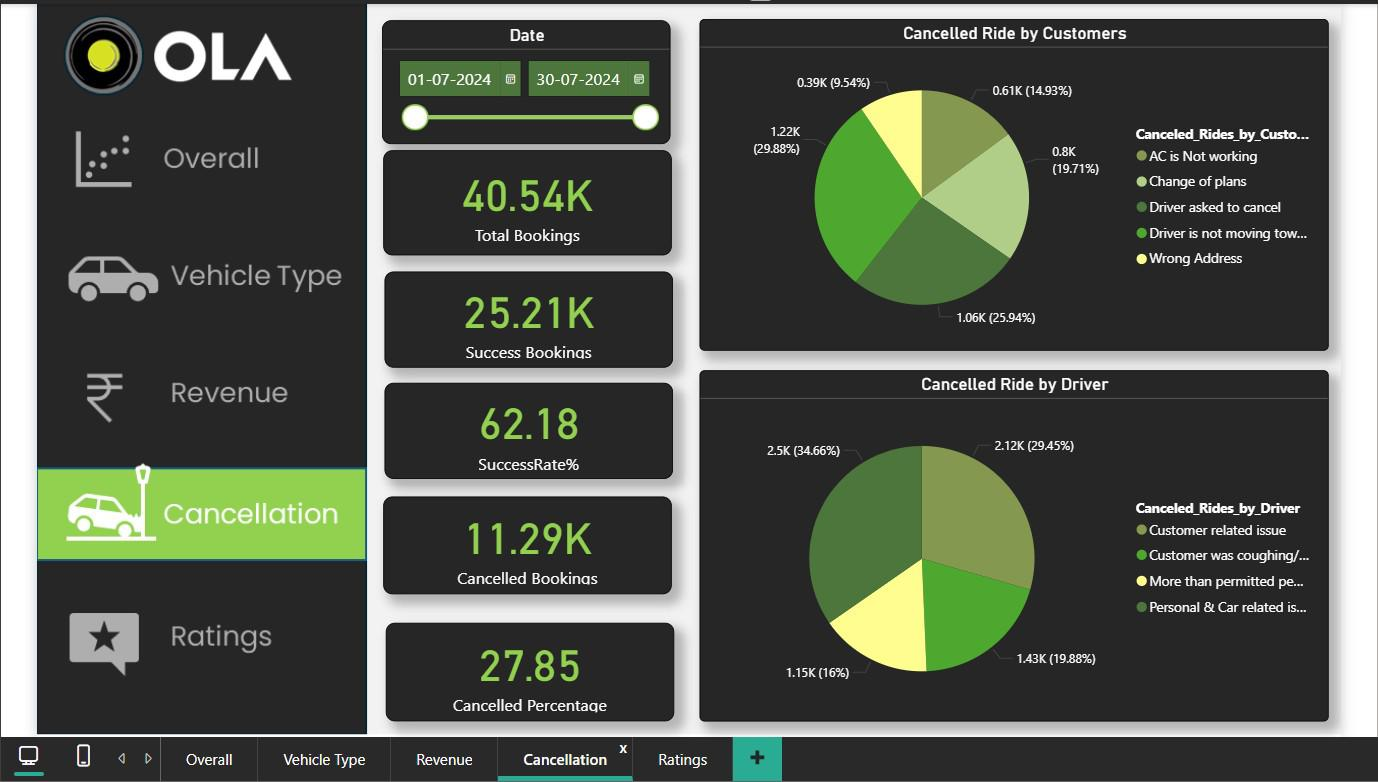

The dashboard page shown, as its layout file describes it:
{"tool":"powerbi","page":{"name":"Cancellation","canvas":[1280,720],"ordinal":3},"visuals":[{"type":"actionButton","box":[0,580.4,322.7,92],"z":0},{"type":"actionButton","box":[0,454,322.7,92],"z":1000},{"type":"actionButton","box":[1.2,339.9,322.7,88.3],"z":2000},{"type":"actionButton","box":[1.2,103.1,322.7,92],"z":3000},{"type":"actionButton","box":[0,217.2,322.7,92],"z":4000},{"type":"pieChart","title":"Cancelled Ride by Driver","fields":{"Y":["select","CountNonNull(July.Canceled_Rides_by_Driver)"],"Category":["July.Canceled_Rides_by_Driver"]},"box":[650.4,359.5,617.5,344.4],"z":5000},{"type":"pieChart","title":"Cancelled Ride by Customers","fields":{"Y":["select","CountNonNull(July.Canceled_Rides_by_Customer)"],"Category":["July.Canceled_Rides_by_Customer"]},"box":[650.4,15.1,617.5,325.2],"z":6000},{"type":"slicer","title":"Date","fields":{"Values":["July.Date"]},"box":[338.7,16,283.4,121.5],"z":7000},{"type":"card","fields":{"Values":["Count(July.Booking_ID)"]},"box":[339.9,143.6,283.4,103.1],"z":8000},{"type":"card","fields":{"Values":["Count(July.Booking_ID)"]},"box":[341.1,262.6,283.4,94.5],"z":9000},{"type":"card","fields":{"Values":["Count(July.Booking_ID)"]},"box":[339.9,483.4,283.4,95.7],"z":10000},{"type":"card","fields":{"Values":["July.CanceledPercentage"]},"box":[342.3,607.4,283.4,96.9],"z":11000},{"type":"card","fields":{"Values":["July.SuccessRate%"]},"box":[341.1,371.8,283.4,94.5],"z":11001}]}

Visuals, with their boxes on the page's 1280x720 design canvas (x1, y1, x2, y2). These are canvas units, not pixel positions in the 1378x782 screenshot, which may show the page scaled, cropped or inside an application window:
actionButton: {"x1": 0, "y1": 580, "x2": 323, "y2": 672}
actionButton: {"x1": 0, "y1": 454, "x2": 323, "y2": 546}
actionButton: {"x1": 1, "y1": 340, "x2": 324, "y2": 428}
actionButton: {"x1": 1, "y1": 103, "x2": 324, "y2": 195}
actionButton: {"x1": 0, "y1": 217, "x2": 323, "y2": 309}
"Cancelled Ride by Driver" pieChart: {"x1": 650, "y1": 360, "x2": 1268, "y2": 704}
"Cancelled Ride by Customers" pieChart: {"x1": 650, "y1": 15, "x2": 1268, "y2": 340}
"Date" slicer: {"x1": 339, "y1": 16, "x2": 622, "y2": 138}
card - Count(July.Booking_ID): {"x1": 340, "y1": 144, "x2": 623, "y2": 247}
card - Count(July.Booking_ID): {"x1": 341, "y1": 263, "x2": 624, "y2": 357}
card - Count(July.Booking_ID): {"x1": 340, "y1": 483, "x2": 623, "y2": 579}
card - July.CanceledPercentage: {"x1": 342, "y1": 607, "x2": 626, "y2": 704}
card - July.SuccessRate%: {"x1": 341, "y1": 372, "x2": 624, "y2": 466}
